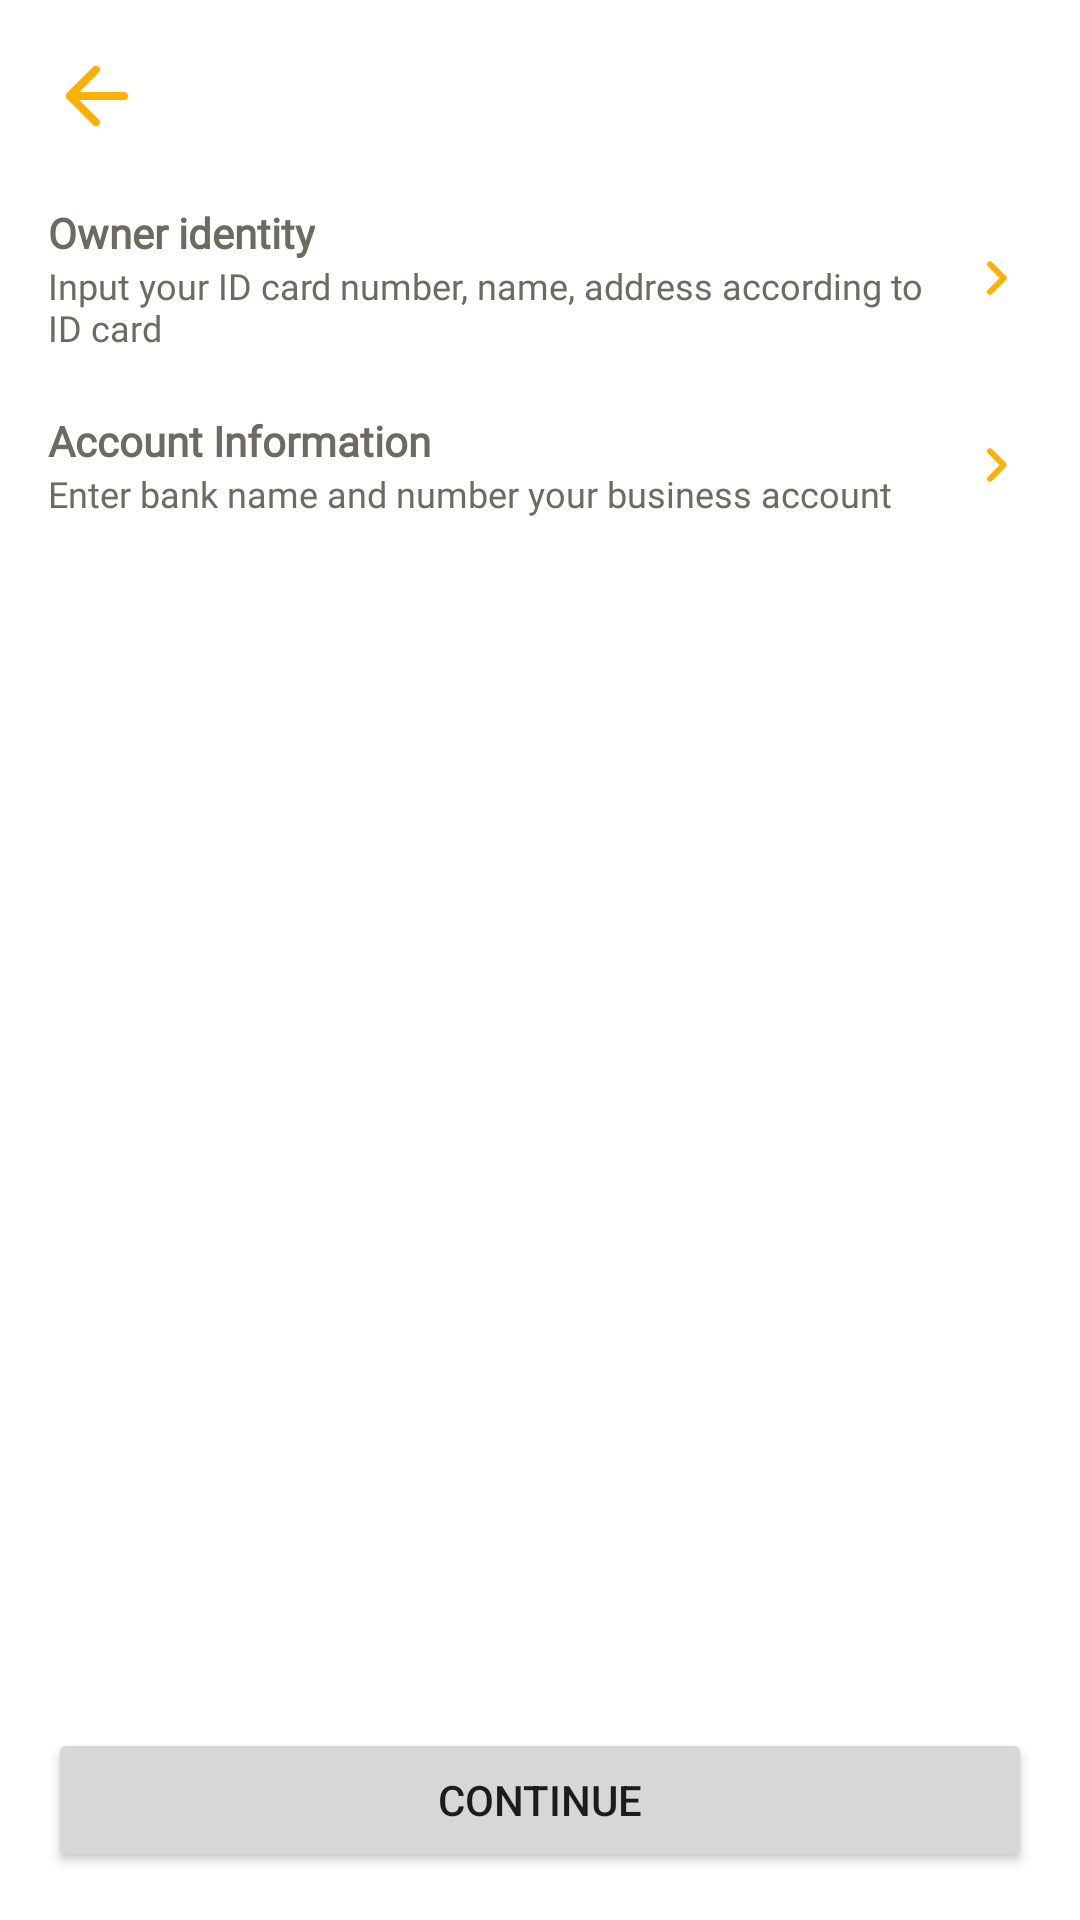

Screen size 1080×1920. Icon name, then its box in pixels as (x1, y1, x2, y2):
arrow right: (987, 261, 1007, 295), (987, 448, 1007, 482)
back: (65, 65, 128, 127)
